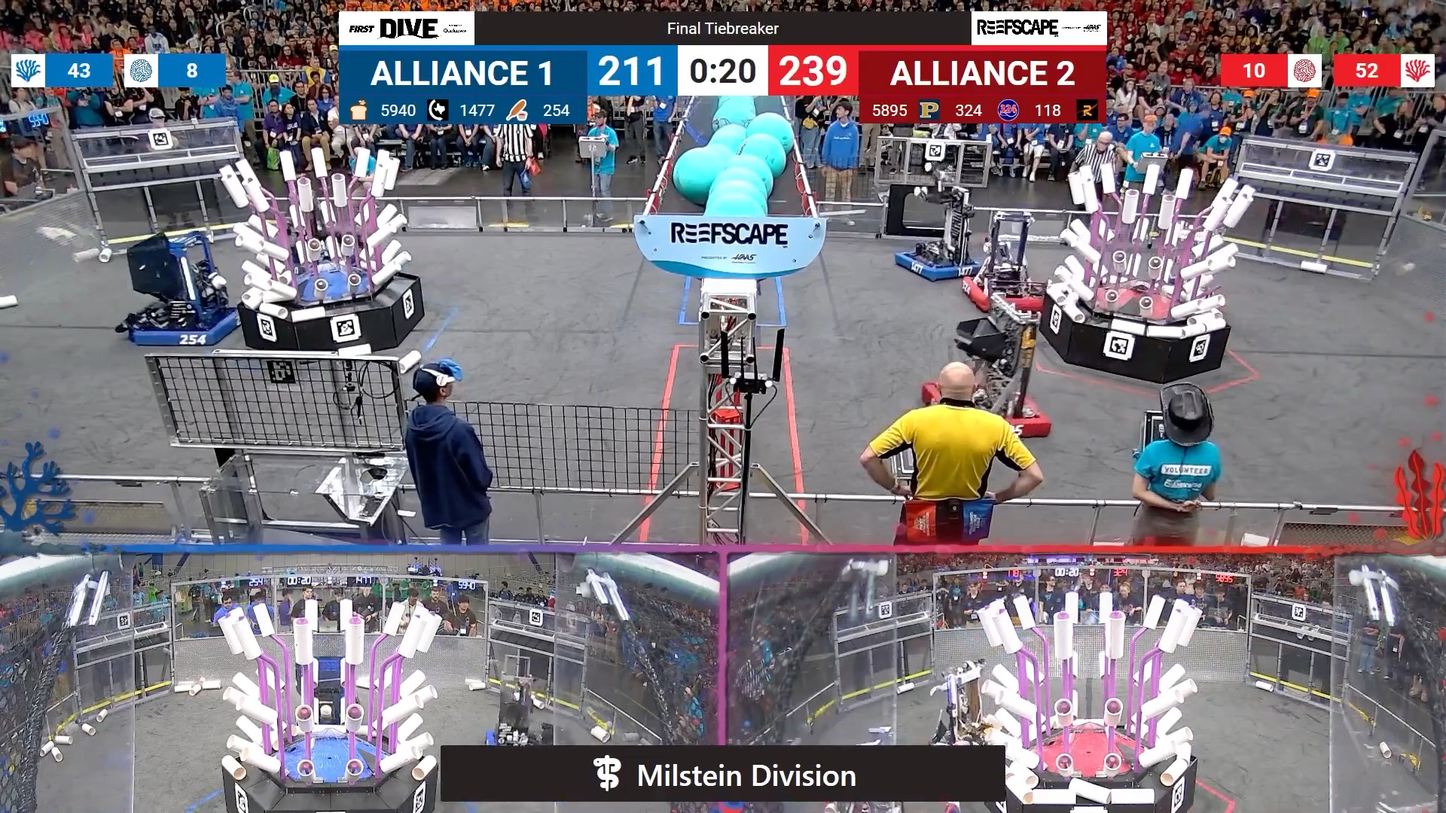bumpers: (915, 384, 1052, 446), (126, 298, 245, 351), (958, 274, 1058, 321), (885, 250, 985, 284)
